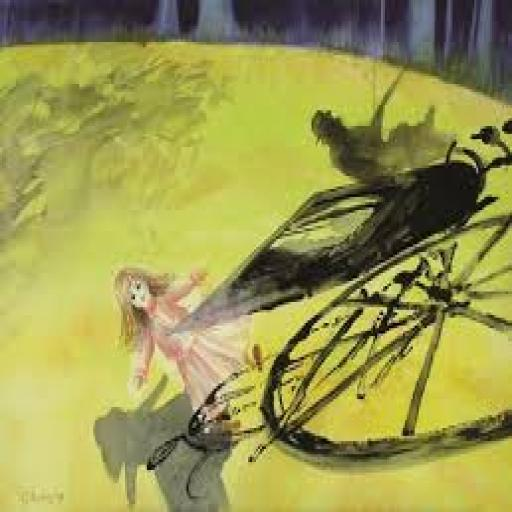person: (104, 255, 262, 426), (308, 83, 454, 197)
